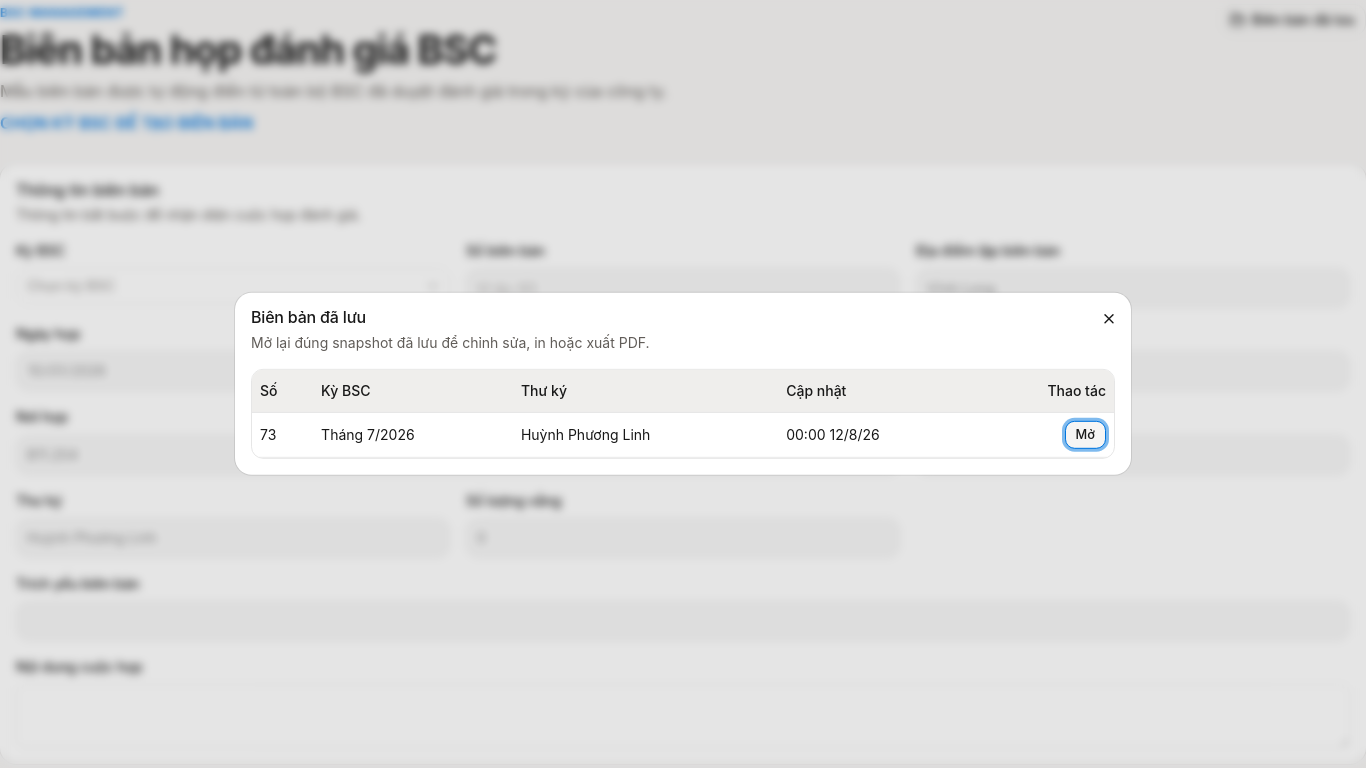
Test: BscMinutesPage › allows view-only users to open saved minutes without create actions
Check: the dialog "Biên bản đã lưu" is shown, box [235,293,1131,475]
Step 1. Click the button "Mở" → (1085, 435), box [1065,421,1106,449]
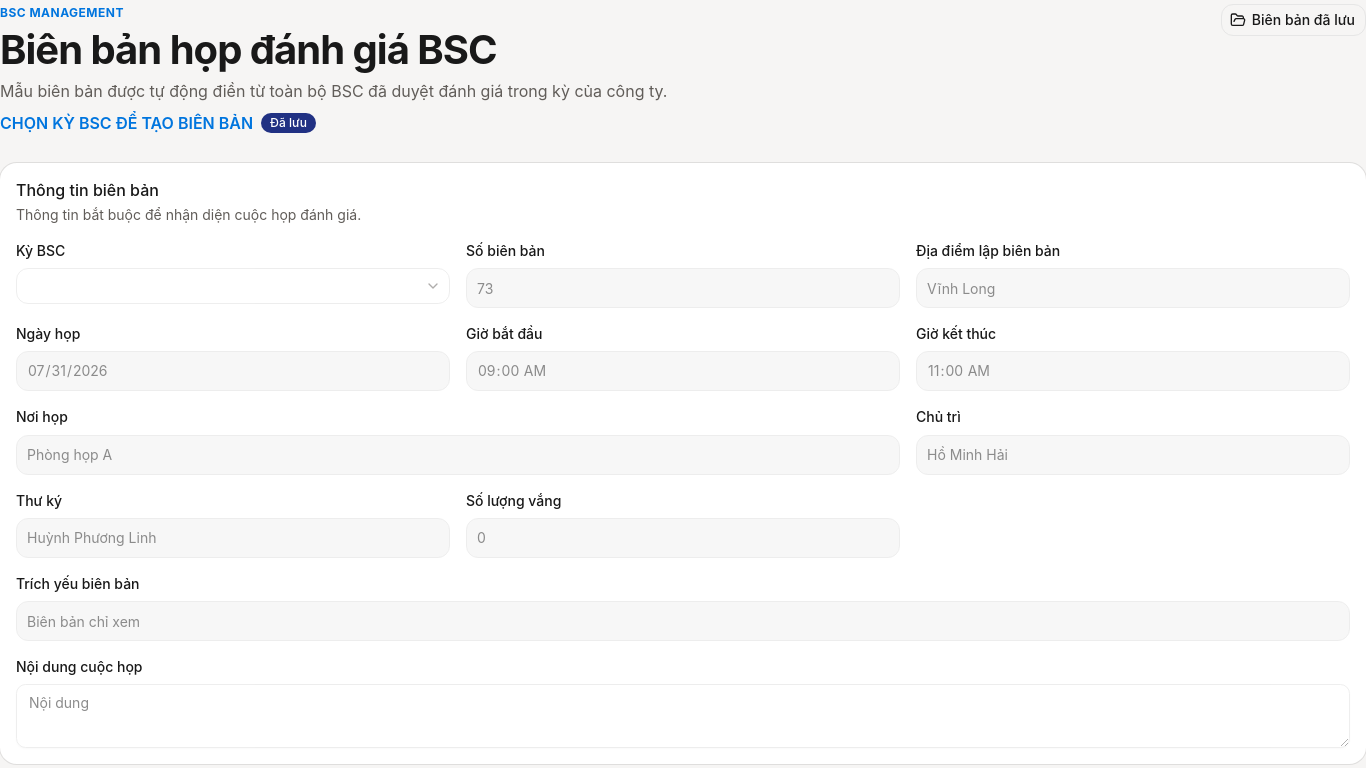
Check: the number field labelled "Số biên bản" is disabled, box [466,268,900,308]
Check: the number field labelled "Số biên bản" holds "73", box [466,268,900,308]
